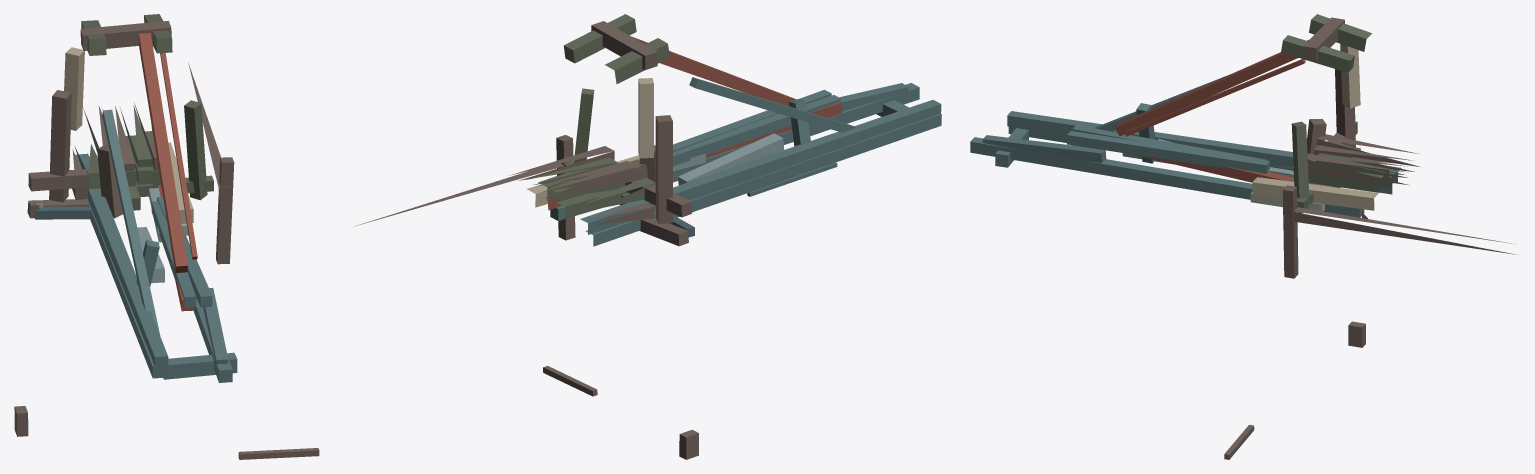
The model's file is terminal-19---123_-26.glb.
The picture shows the model from 3 angles, left to right: view 1: azimuth 30°, elevation 25°; view 2: azimuth 150°, elevation 25°; view 3: azimuth 270°, elevation 25°; orthographic projection. The views are drawn at different scales.
Visible parts, largest first — view 1: measured-industrial; view 2: measured-industrial; view 3: measured-industrial.
Part boxes in pixels (<box>): measured-industrial: <box>14,14,319,459</box>; measured-industrial: <box>354,14,941,459</box>; measured-industrial: <box>970,14,1517,459</box>.
Size of the model in its own units: 43.88 by 54.47 by 73.43.
